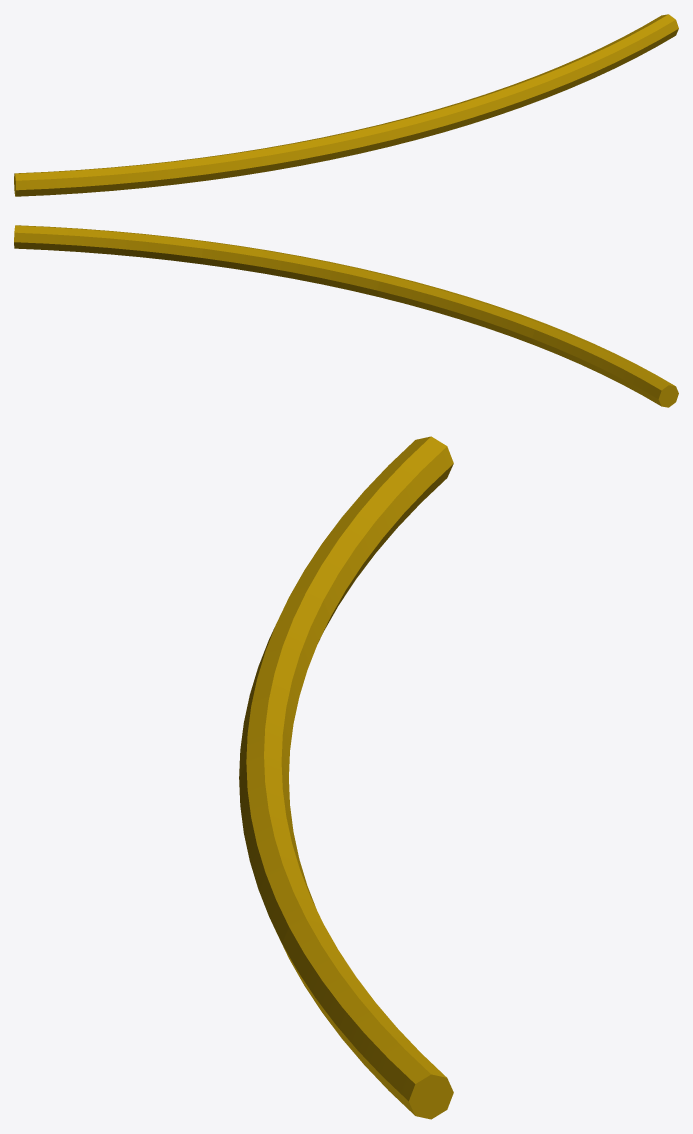
Rendered from Shower_Pipe_01.fbx.
The picture shows the model from 3 angles, top to bottom: view 1: azimuth 30°, elevation 25°; view 2: azimuth 150°, elevation 25°; view 3: azimuth 270°, elevation 25°; orthographic projection. The views are drawn at different scales.
Parts seen in each view (by area): view 1: Shower_Pipe_01; view 2: Shower_Pipe_01; view 3: Shower_Pipe_01.
Boxes of the visible parts, x1,y1,x2,y2 form: Shower_Pipe_01: (14,14,678,196); Shower_Pipe_01: (14,225,678,407); Shower_Pipe_01: (239,436,453,1119).
Size of the model in its own units: 587 by 19.11 by 82.43.
